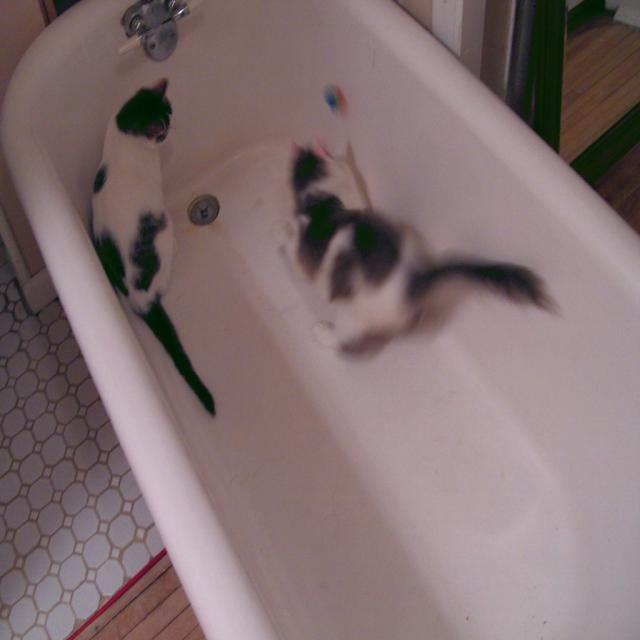Cat: (268, 121, 568, 376), (89, 74, 212, 418)
